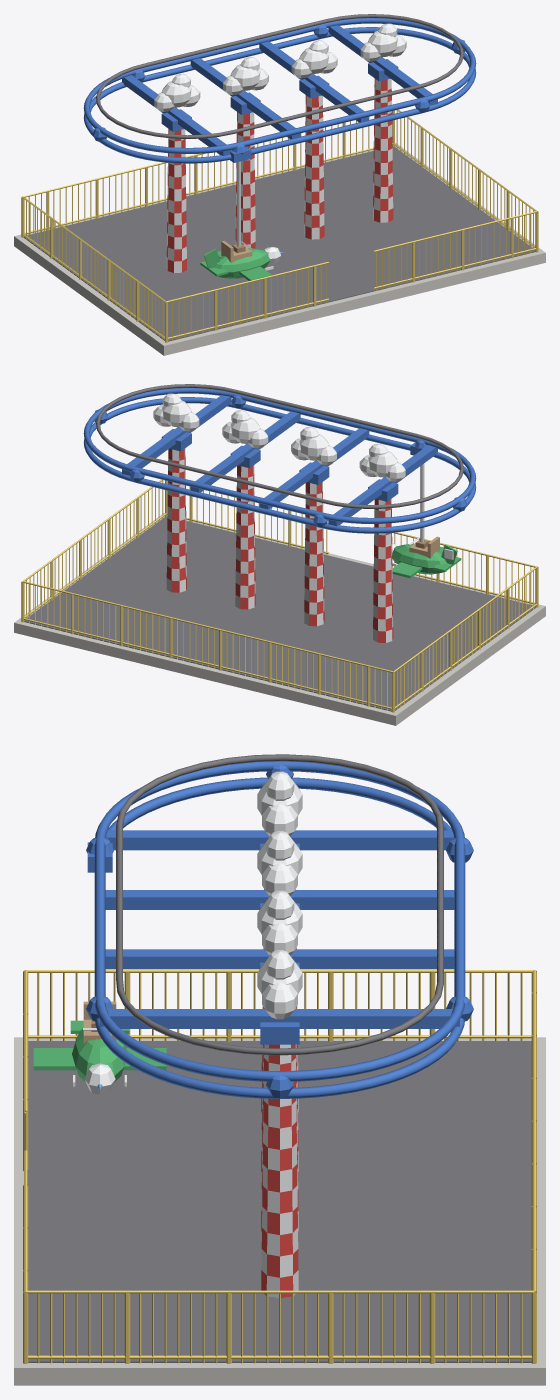
3 renders of one model, top to bottom at view 1: azimuth 30°, elevation 25°; view 2: azimuth 150°, elevation 25°; view 3: azimuth 270°, elevation 25°, orthographic. The views are drawn at different scales.
Visible parts, largest first — view 1: base, car0; view 2: base, car0; view 3: base, car0.
Part boxes in pixels (x1=…): base: x1=14, y1=14, x2=545, y2=355; car0: x1=200, y1=146, x2=283, y2=280; base: x1=14, y1=384, x2=545, y2=725; car0: x1=392, y1=442, x2=461, y2=578; base: x1=14, y1=754, x2=545, y2=1385; car0: x1=33, y1=842, x2=166, y2=1094.
Bounding box in the file's own units: 10 × 5.1 × 6.8.
